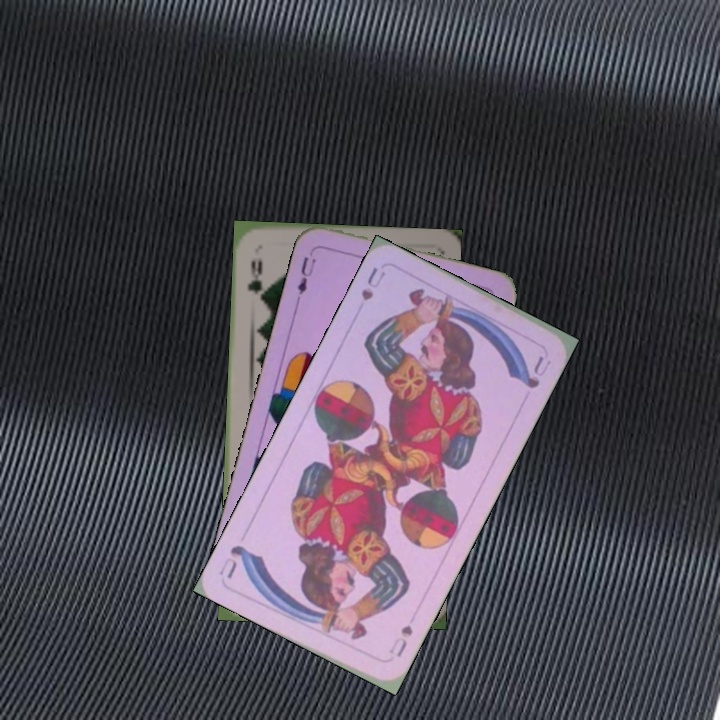EU: (293, 253, 319, 304)
G9: (243, 255, 265, 303)
SU: (356, 262, 388, 304), (385, 621, 416, 660)
